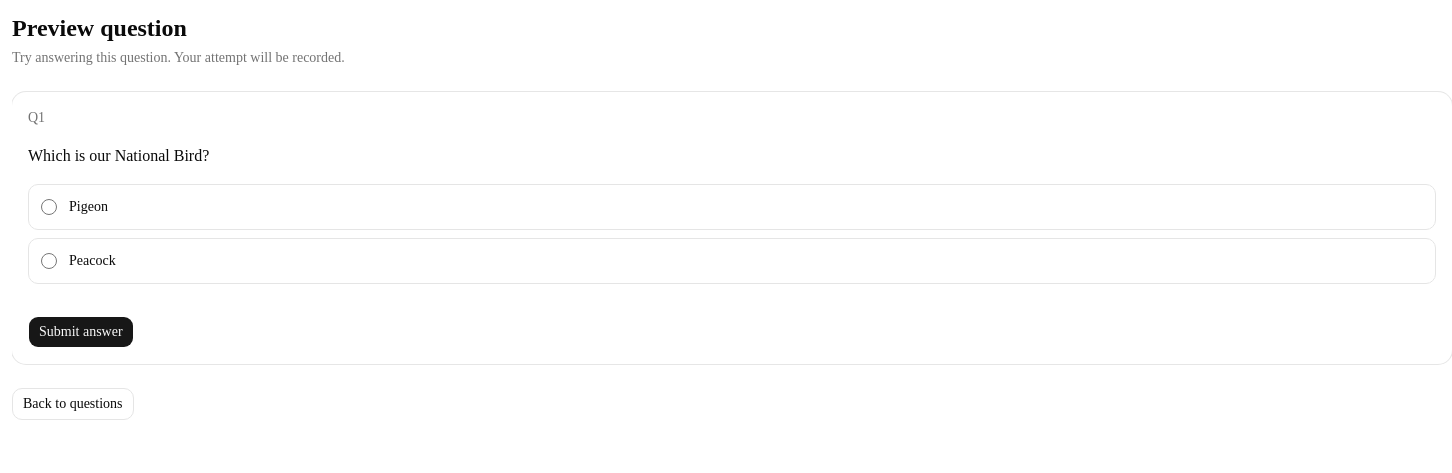
Test: McqPreview › records an attempt and shows the result
Click the radio button labelled "Peacock".
click(49, 261)  # box [41,253,57,269]
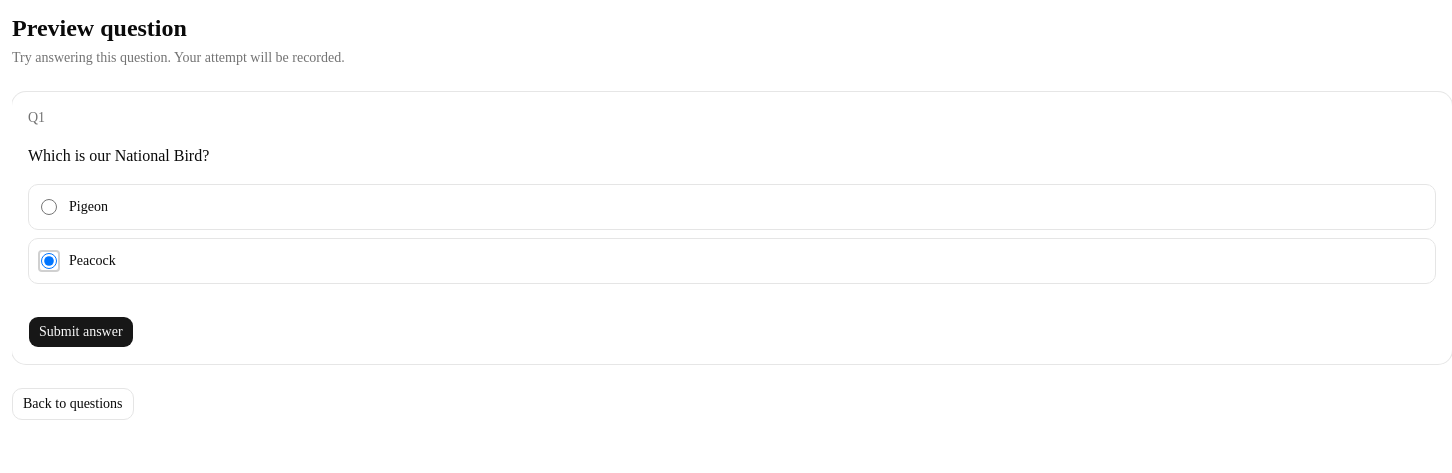
Click the button "Submit answer".
click(81, 332)  # box [28,316,134,348]
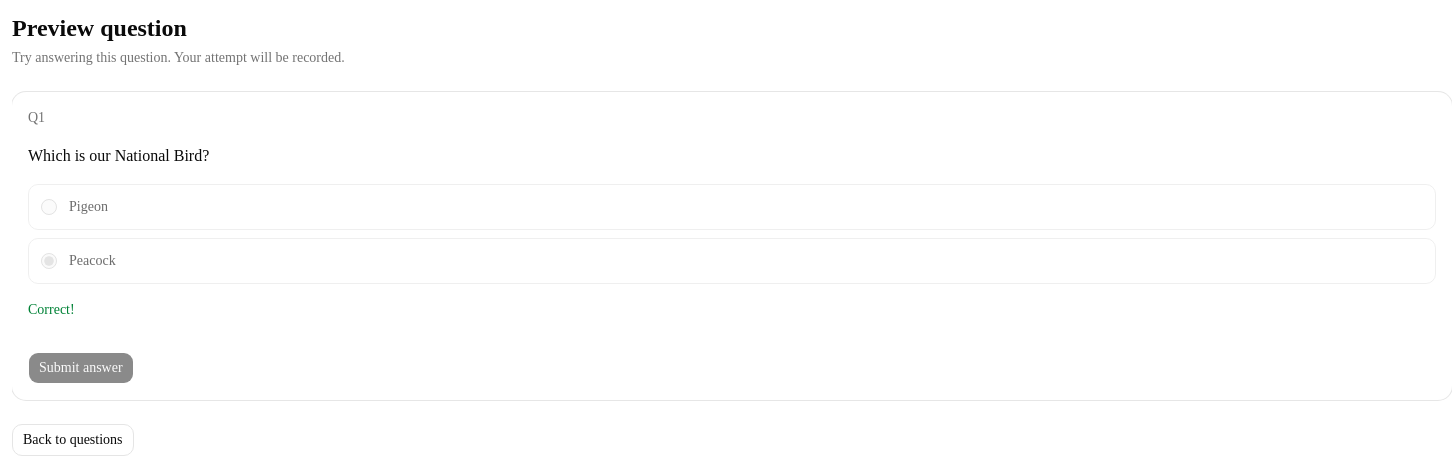
Now the text "Correct!" is shown, box [28,302,75,317]
